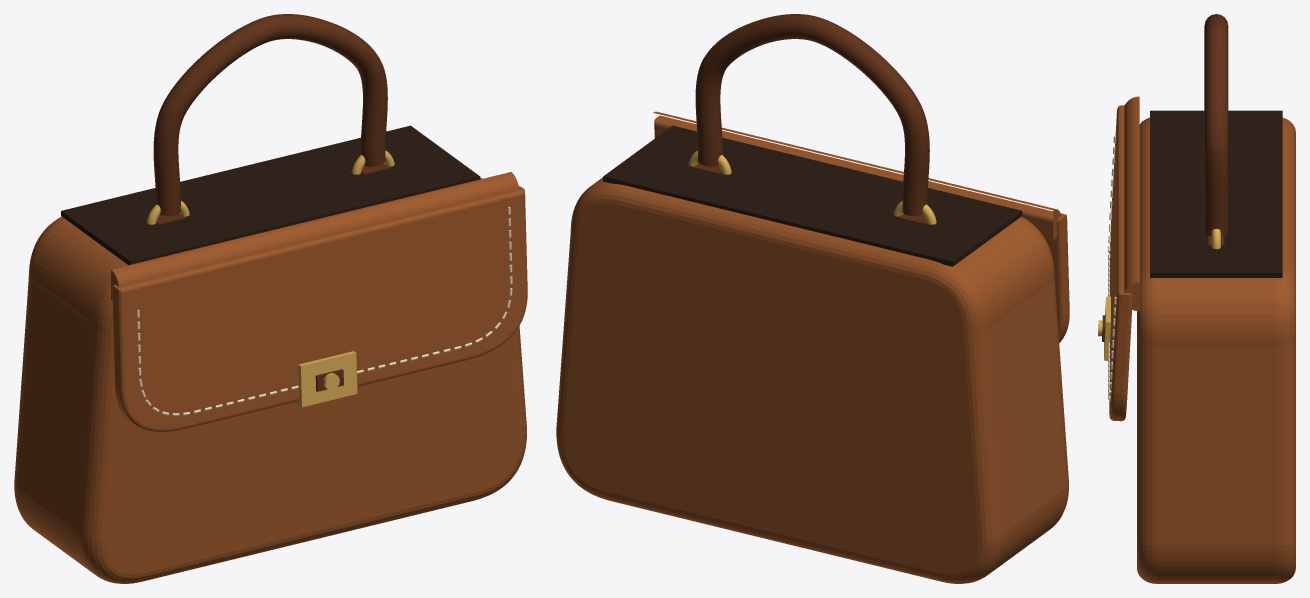
File: canta.glb
3 views of the same model, side by side, from view 1: azimuth 30°, elevation 25°; view 2: azimuth 150°, elevation 25°; view 3: azimuth 270°, elevation 25° (orthographic). The views are drawn at different scales.
Visible parts, largest first — view 1: Deri el çantası; view 2: Deri el çantası; view 3: Deri el çantası.
Part boxes in pixels (left/top/right/bottom): Deri el çantası: left=14, top=14, right=527, bottom=583; Deri el çantası: left=556, top=14, right=1069, bottom=583; Deri el çantası: left=1098, top=14, right=1295, bottom=583.
Bounding box in the file's own units: 0.368 × 0.403 × 0.1493.
